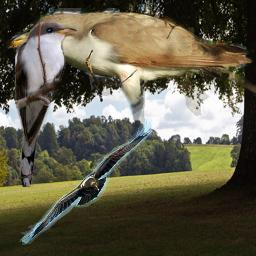Crow: (19, 118, 155, 245)
Cuckoo: (6, 8, 256, 127), (13, 20, 77, 187)
